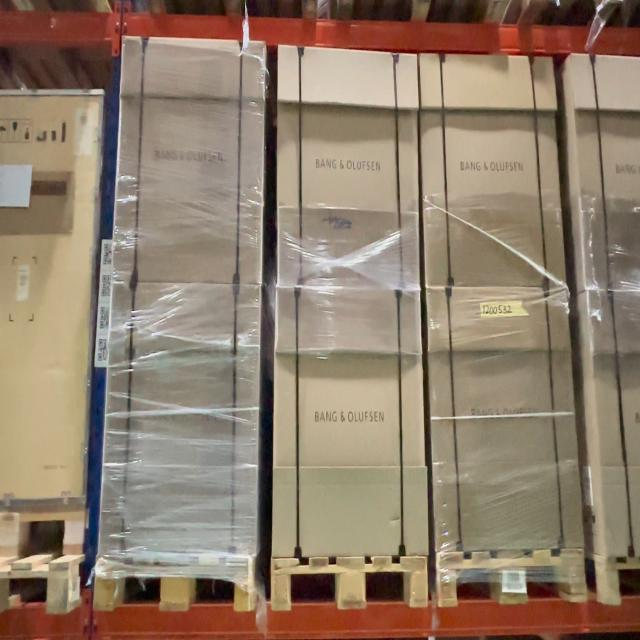box: (276, 292, 419, 551), (433, 295, 572, 550), (113, 296, 254, 545), (122, 42, 260, 283), (280, 54, 415, 280), (426, 59, 558, 282)
